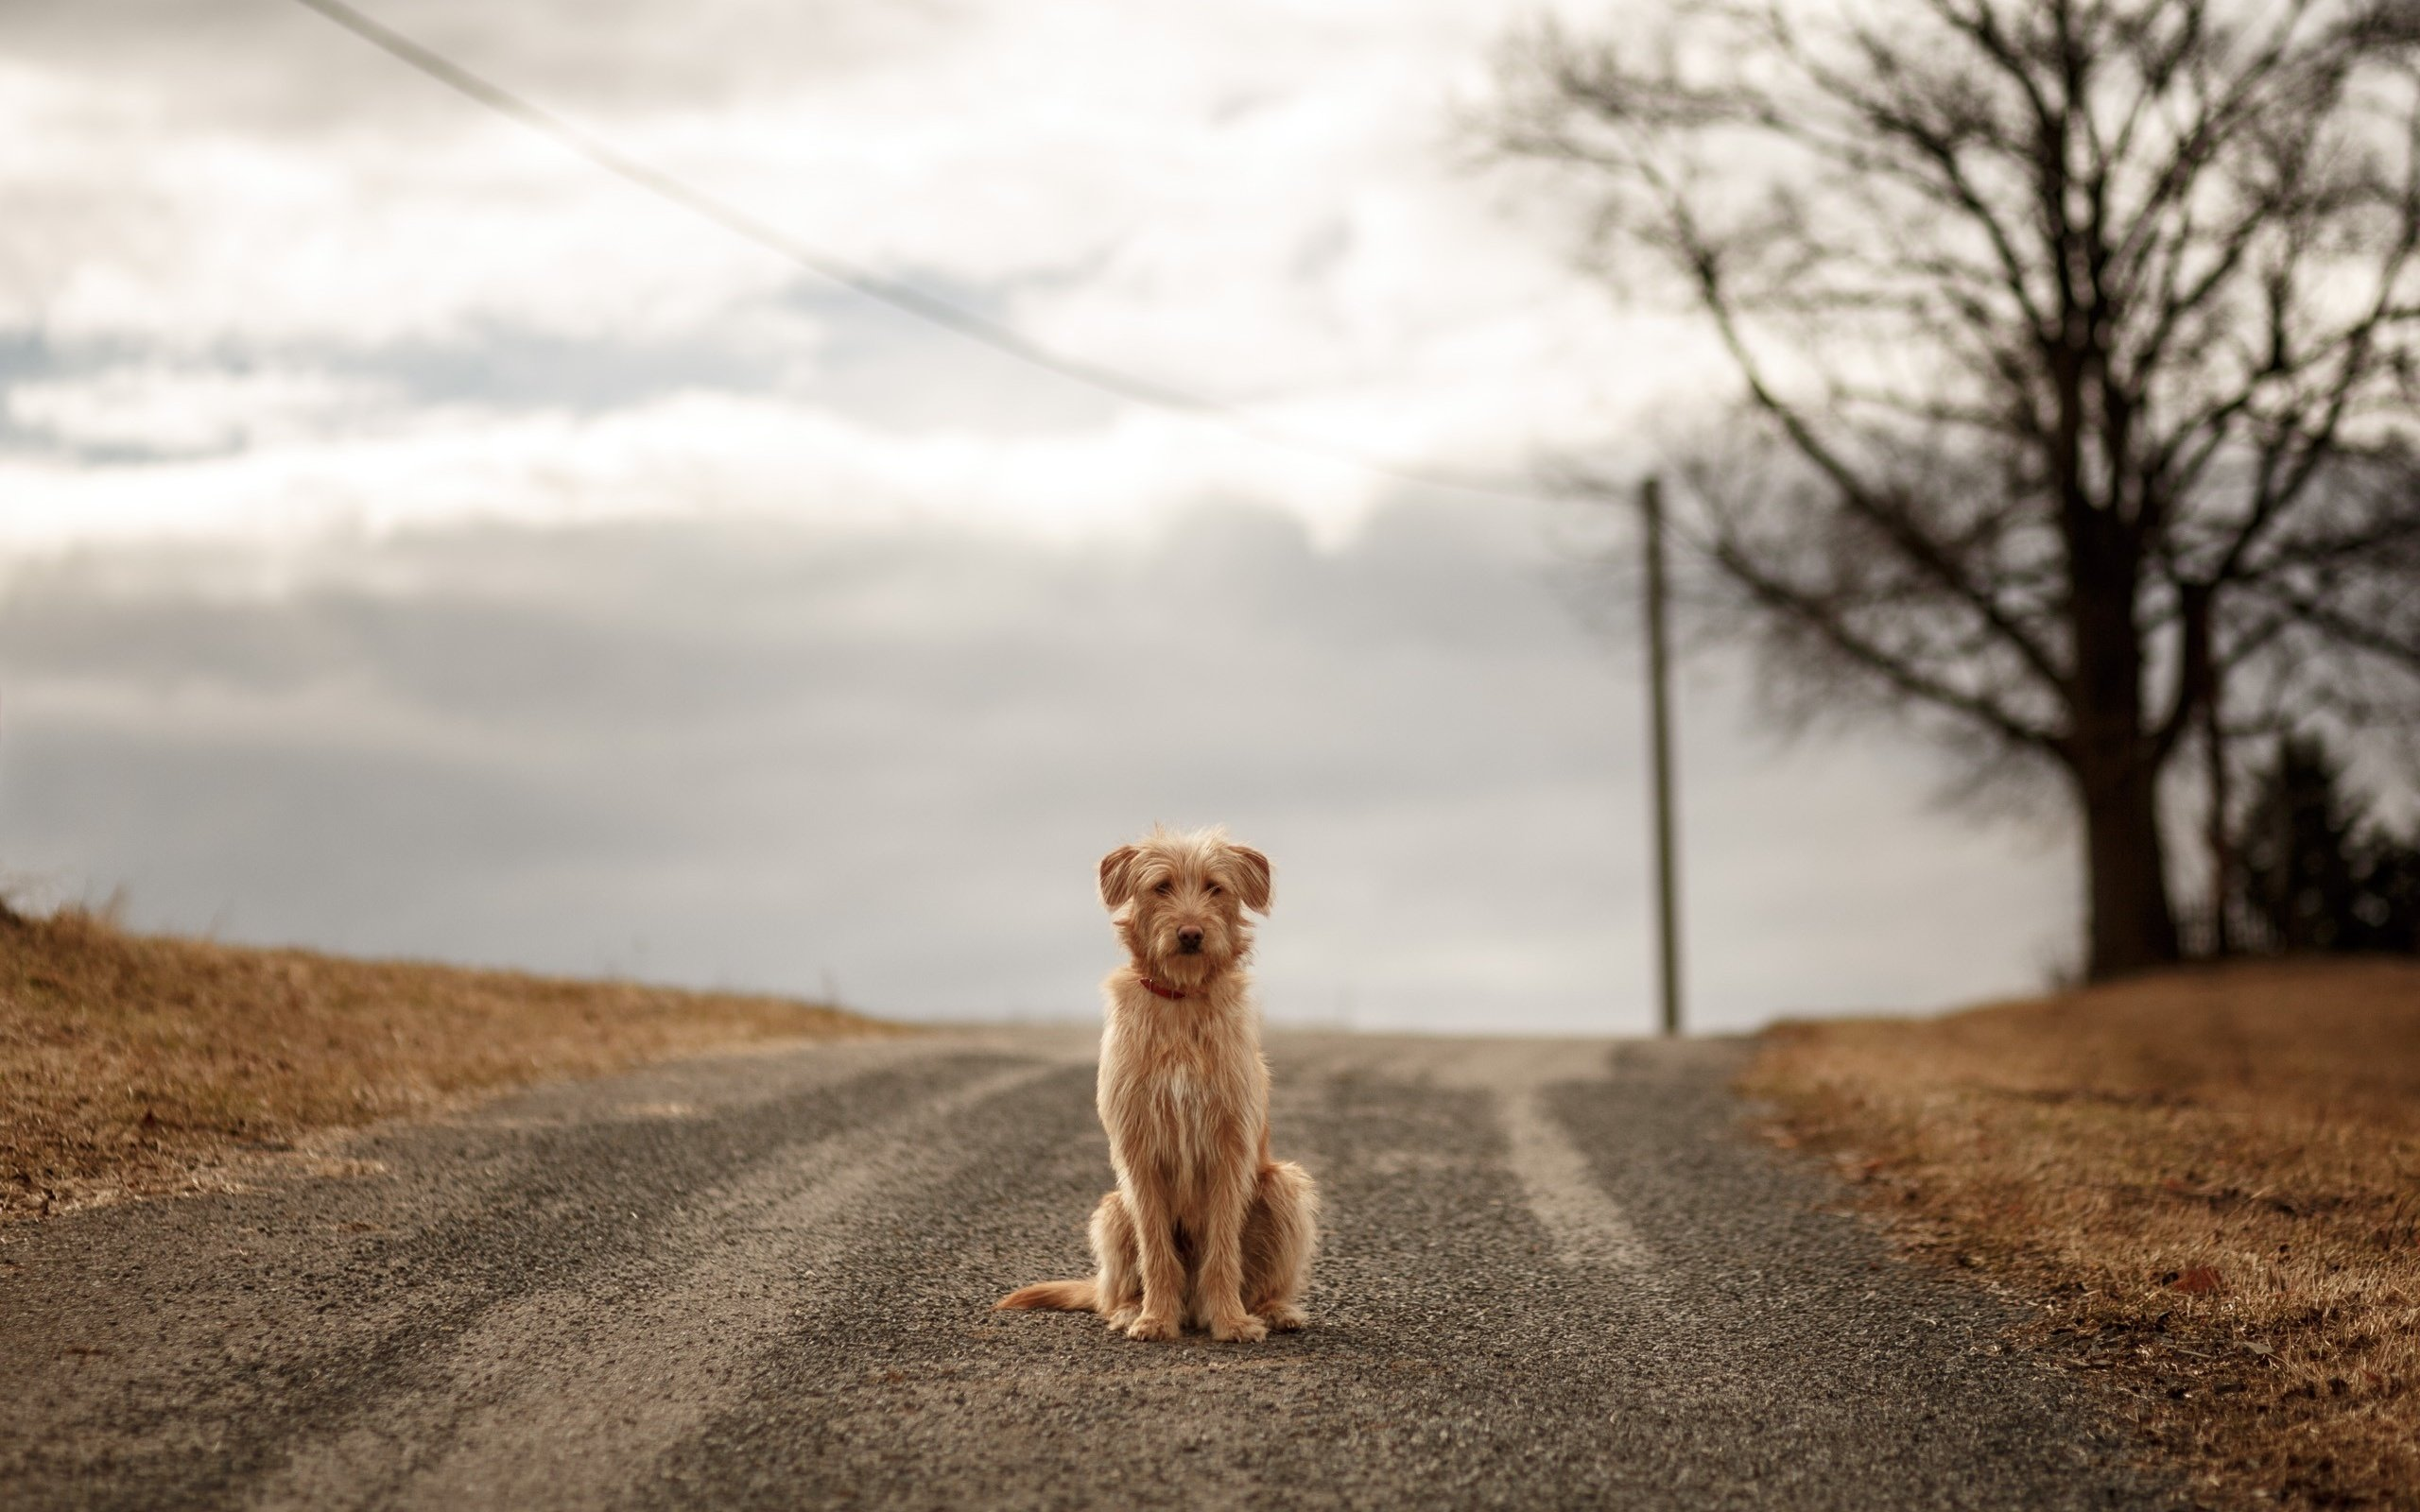kopek: (1045, 815, 1401, 1359)
